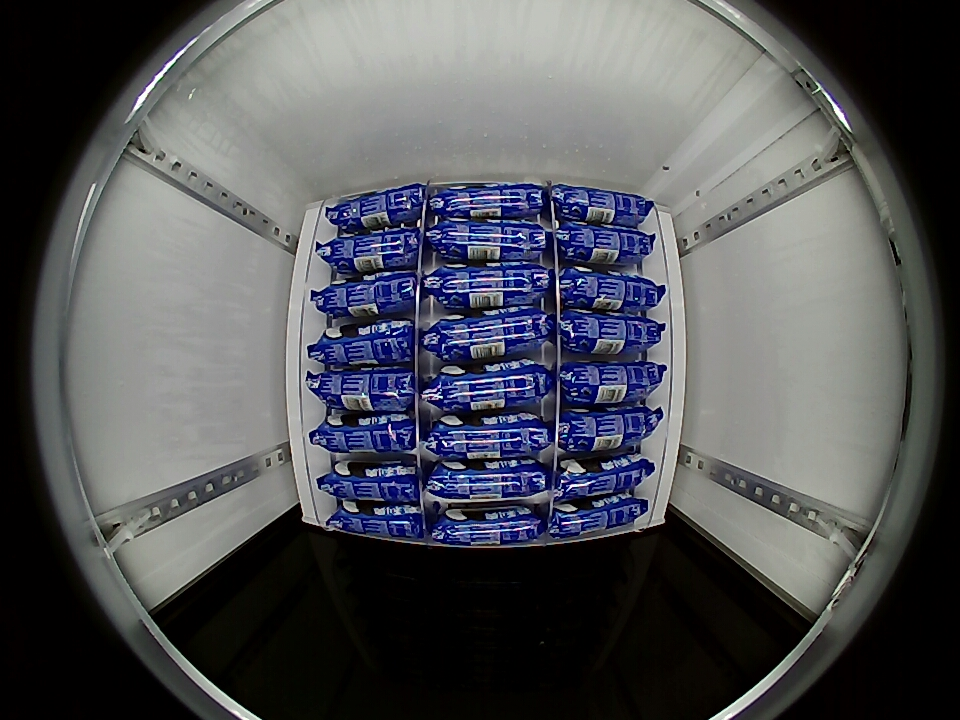aoliao: (426, 306, 552, 362), (425, 358, 550, 414), (428, 260, 550, 309), (427, 412, 548, 461), (311, 314, 418, 368), (431, 214, 547, 262), (548, 217, 648, 270), (311, 225, 420, 273), (427, 458, 550, 500), (561, 307, 657, 360), (430, 504, 545, 547), (429, 180, 547, 221), (328, 185, 419, 238), (318, 270, 417, 318), (552, 266, 657, 311), (316, 366, 414, 413), (552, 180, 653, 225), (548, 494, 641, 542), (555, 455, 646, 504), (317, 412, 417, 455), (555, 407, 654, 450), (329, 460, 421, 506), (561, 361, 656, 402), (330, 500, 426, 540)
